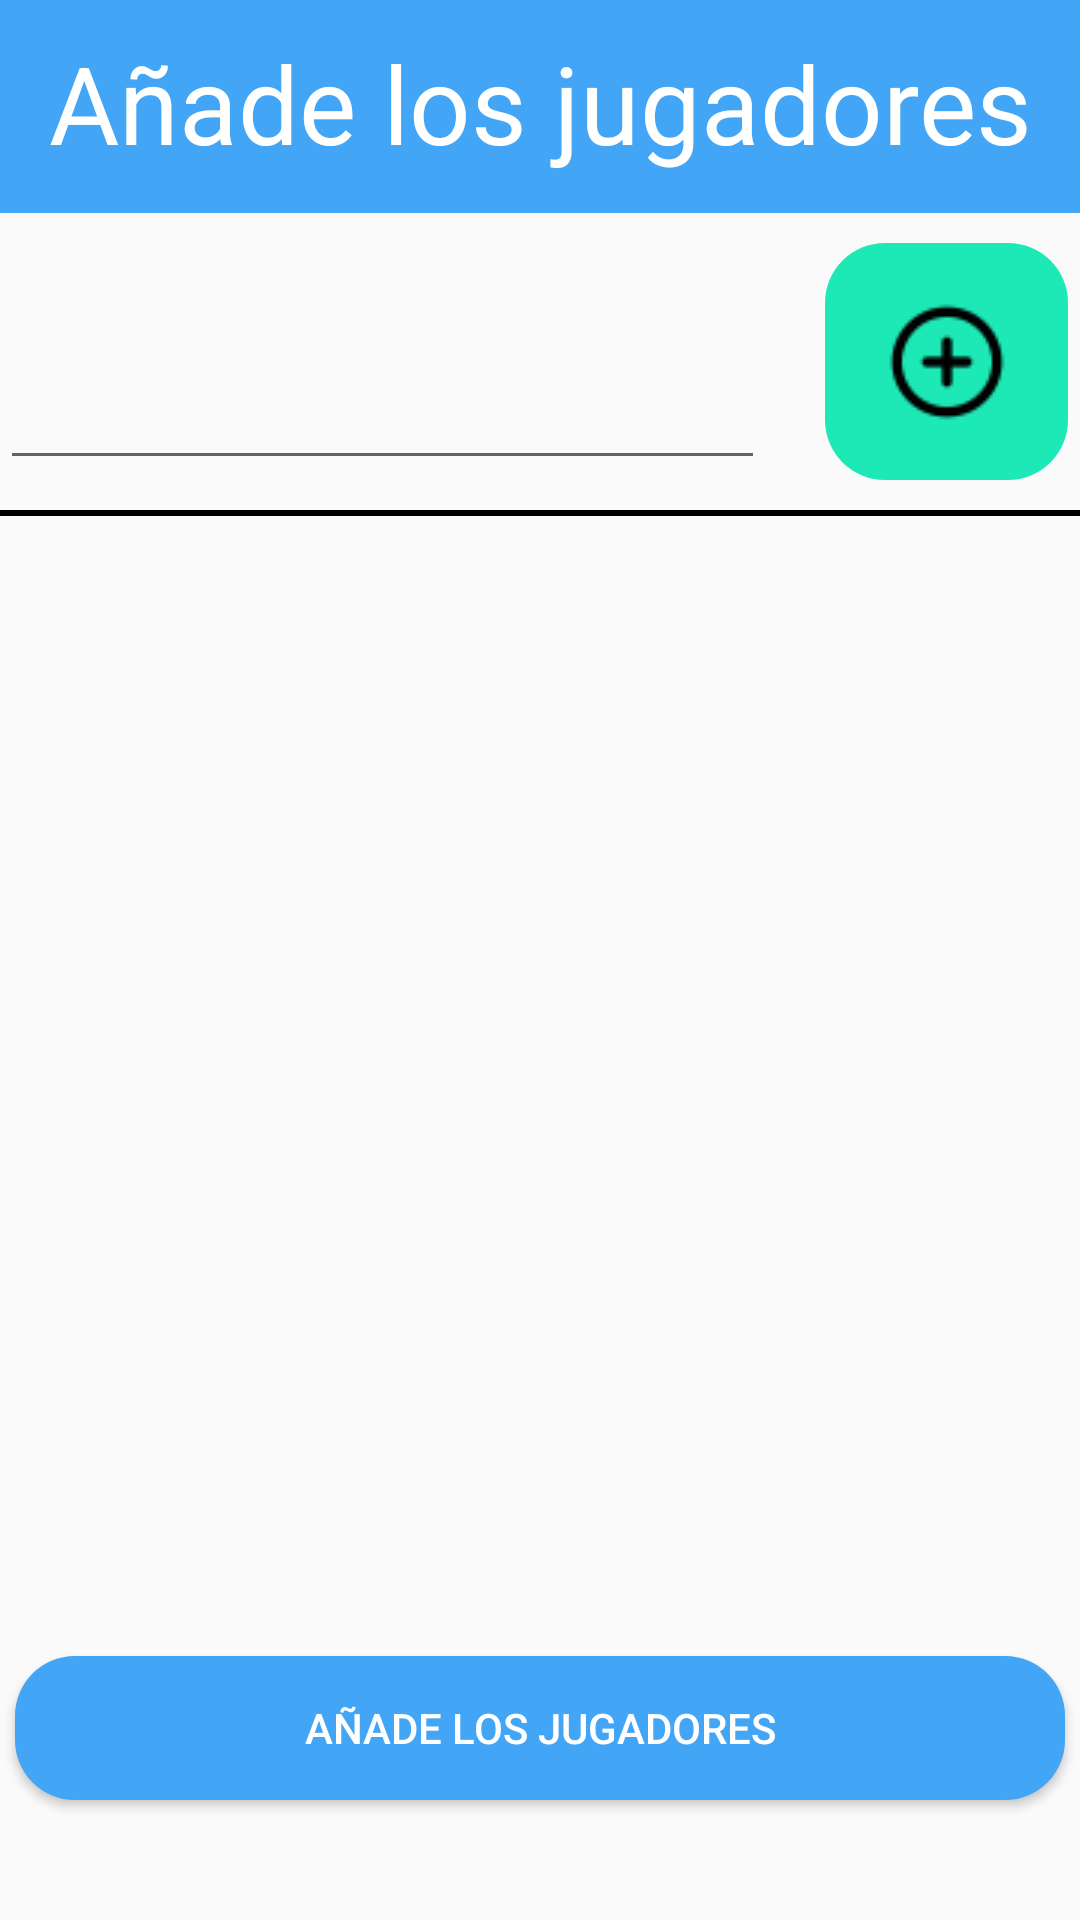

Screen size 1080px×1920px. Icon name, then its box in pixels as (x1, y1, x2, y2):
add circle insert plus: (825, 243, 1068, 480)
